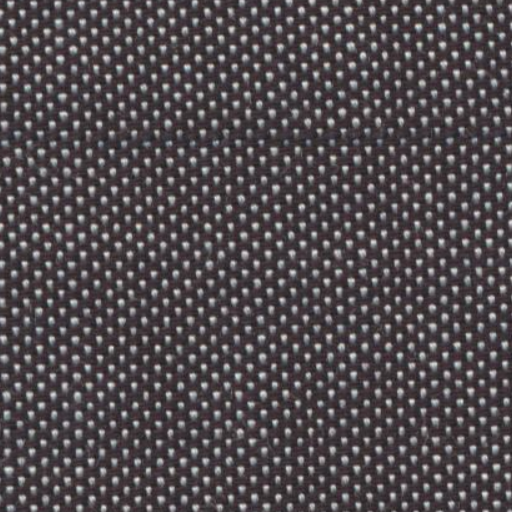TuoSha: (28, 96, 496, 178)
